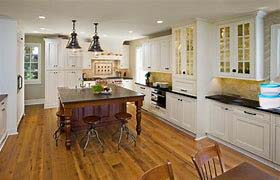copymove: (65, 16, 84, 50)
removed: (127, 30, 148, 64)
spliced: (257, 83, 280, 108)
